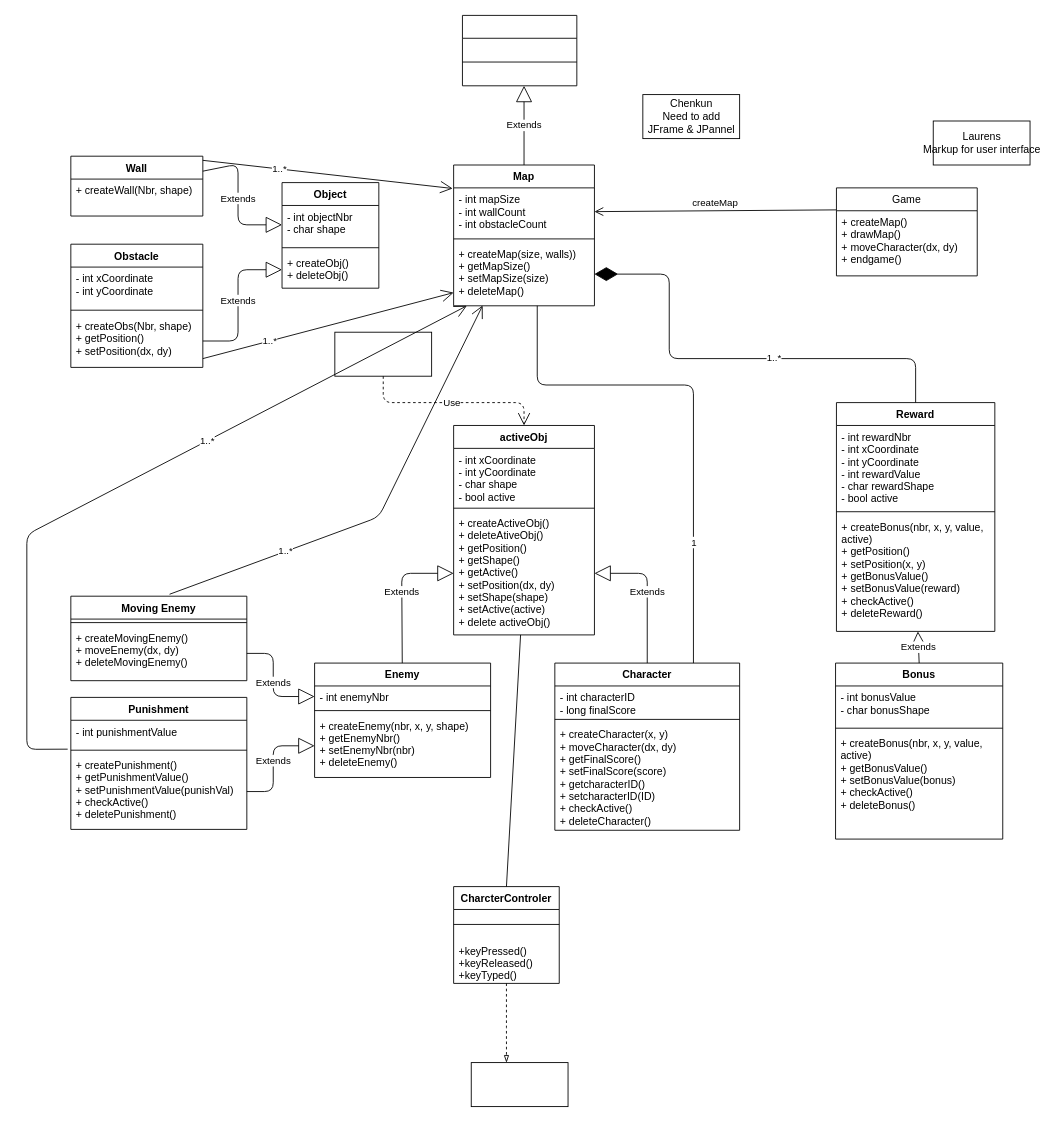
This 1055x1122 diagram has some shape labels left out. Each missing label, with the centre of its shape:
JFrame: pixel 519 50
Shen Need to Add Enemy Interface: pixel 383 353
«interface» KeyListener: pixel 519 1084
